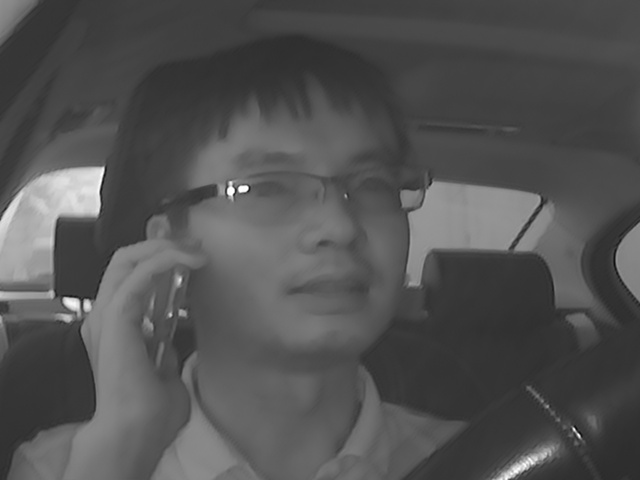hand: (73, 236, 218, 432)
